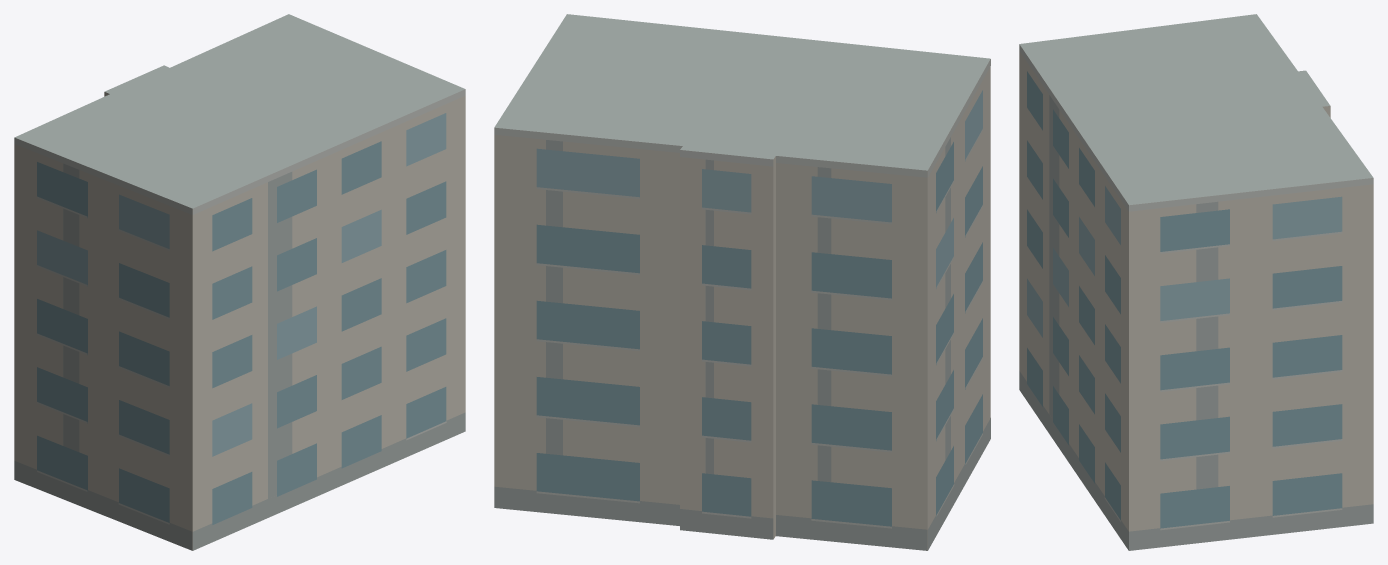
Rendered from survey-upis-32884857.glb.
3 renders of one model, left to right at view 1: azimuth 30°, elevation 25°; view 2: azimuth 150°, elevation 25°; view 3: azimuth 270°, elevation 25°, orthographic. The views are drawn at different scales.
Parts seen in each view (by area): view 1: survey-upis-32884857.tmp; view 2: survey-upis-32884857.tmp; view 3: survey-upis-32884857.tmp.
Part boxes in pixels (x1,y1,x2,y2): survey-upis-32884857.tmp: [14, 14, 465, 550]; survey-upis-32884857.tmp: [494, 14, 990, 550]; survey-upis-32884857.tmp: [1019, 14, 1373, 550].
Size of the model in its own units: 15.44 by 13 by 12.09.
